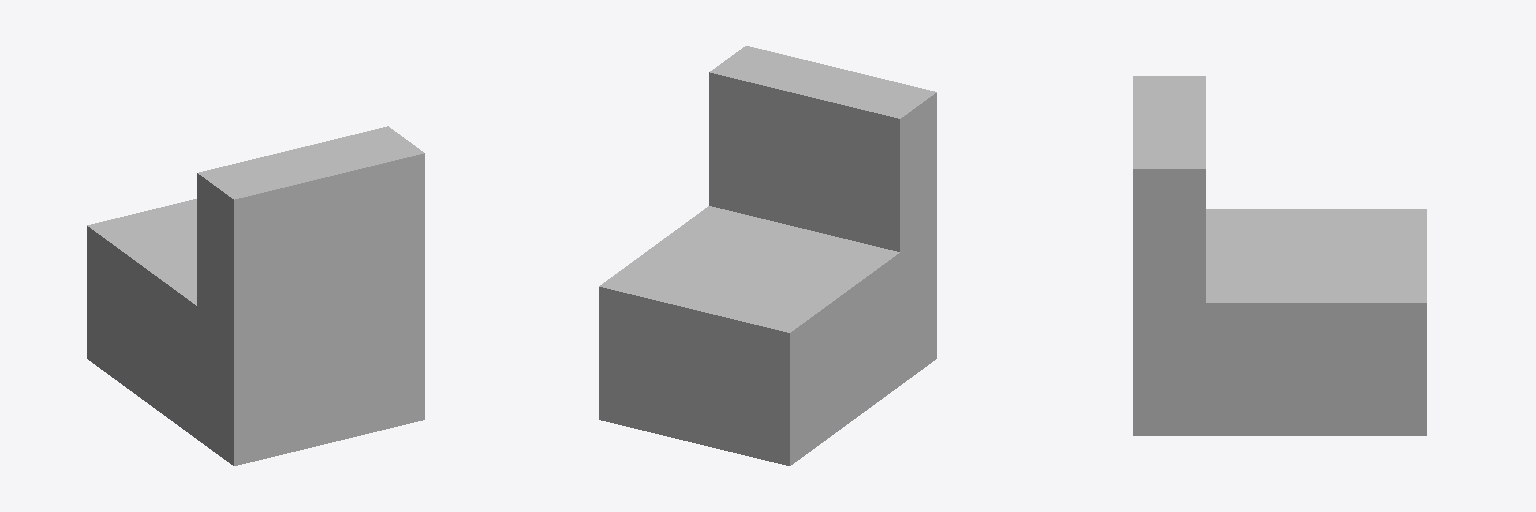
File: Cadeira separada.obj
3 views of the same model, side by side, from view 1: azimuth 30°, elevation 25°; view 2: azimuth 150°, elevation 25°; view 3: azimuth 270°, elevation 25° (orthographic).
Parts seen in each view (by area): view 1: object 1; view 2: object 1; view 3: object 1.
Boxes of the visible parts, box(x1,y1,x2,y2) form: object 1: box(87, 126, 424, 465); object 1: box(599, 46, 936, 465); object 1: box(1133, 76, 1426, 435).
Bounding box in the file's own units: 0.3 × 0.4 × 0.4.